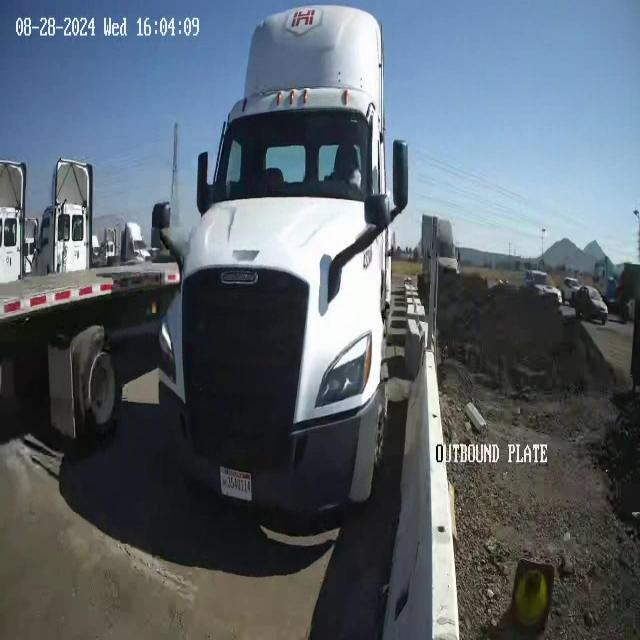TRUCK_IN: (156, 4, 410, 522)
